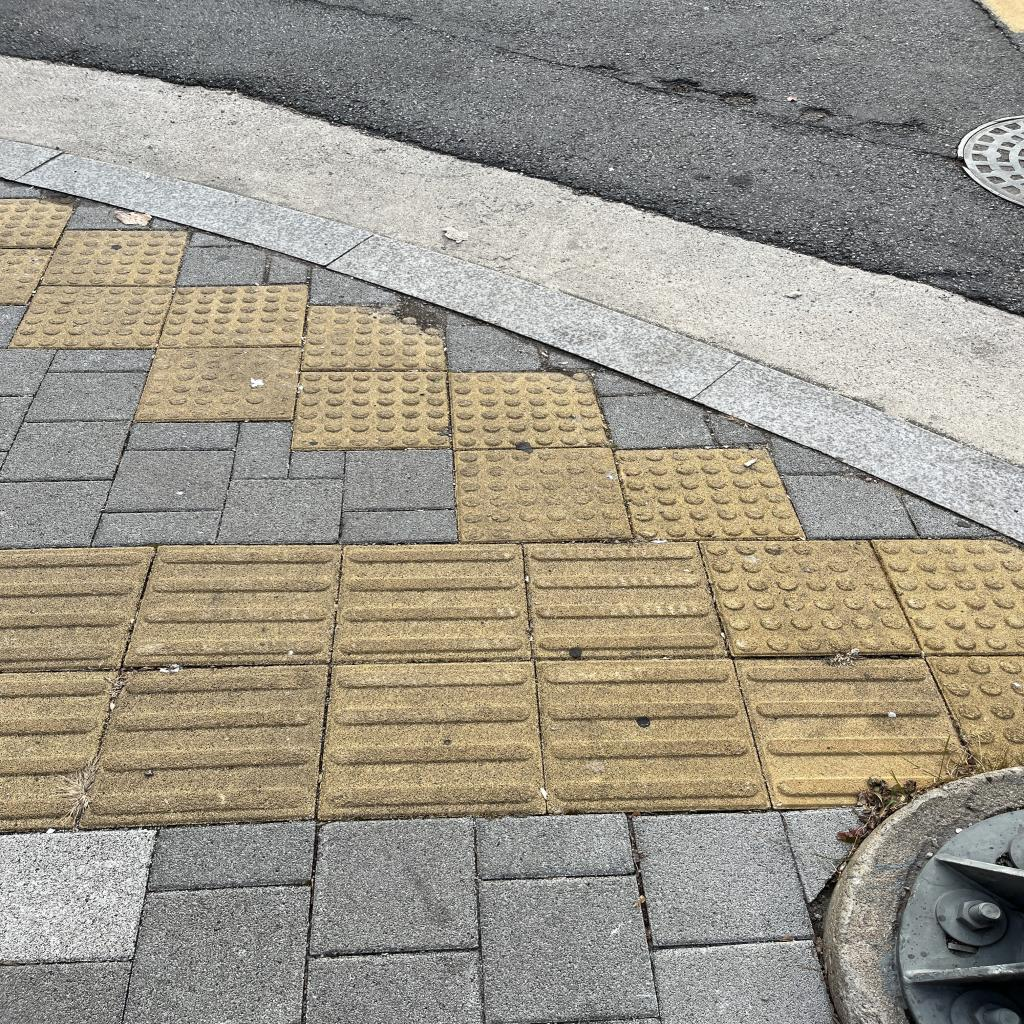Stop block normal: (703, 540, 918, 653), (293, 372, 449, 448), (158, 285, 308, 347)
Straight block normal: (315, 658, 543, 818), (123, 543, 342, 663)
